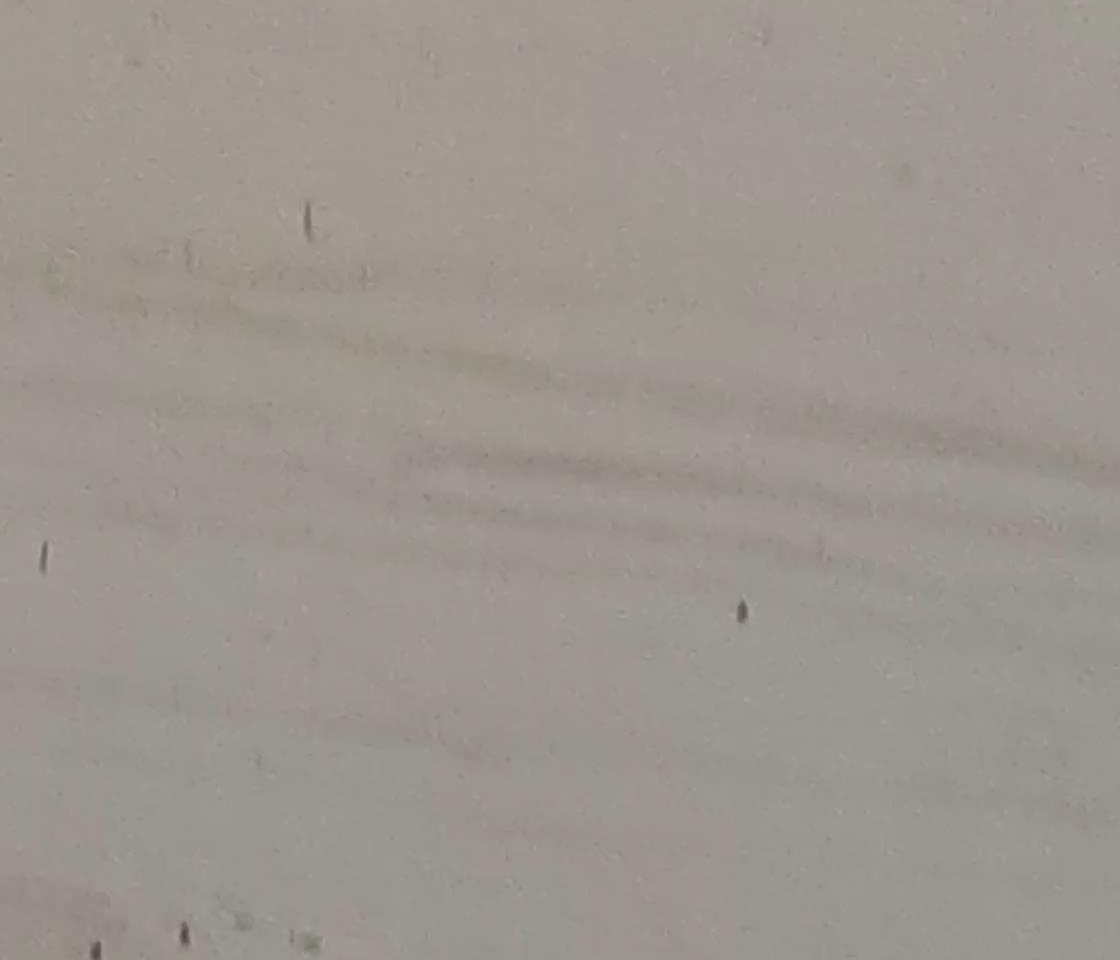scratch: (291, 196, 319, 250), (29, 537, 56, 582)
